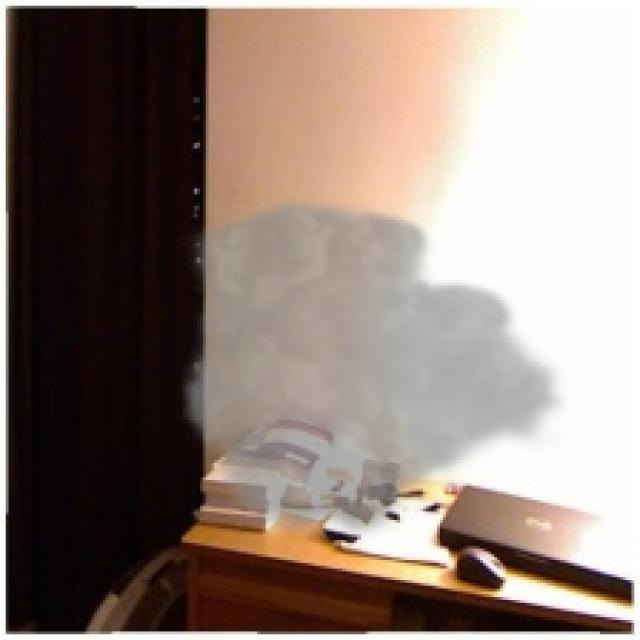Smoke: (177, 194, 572, 546)
